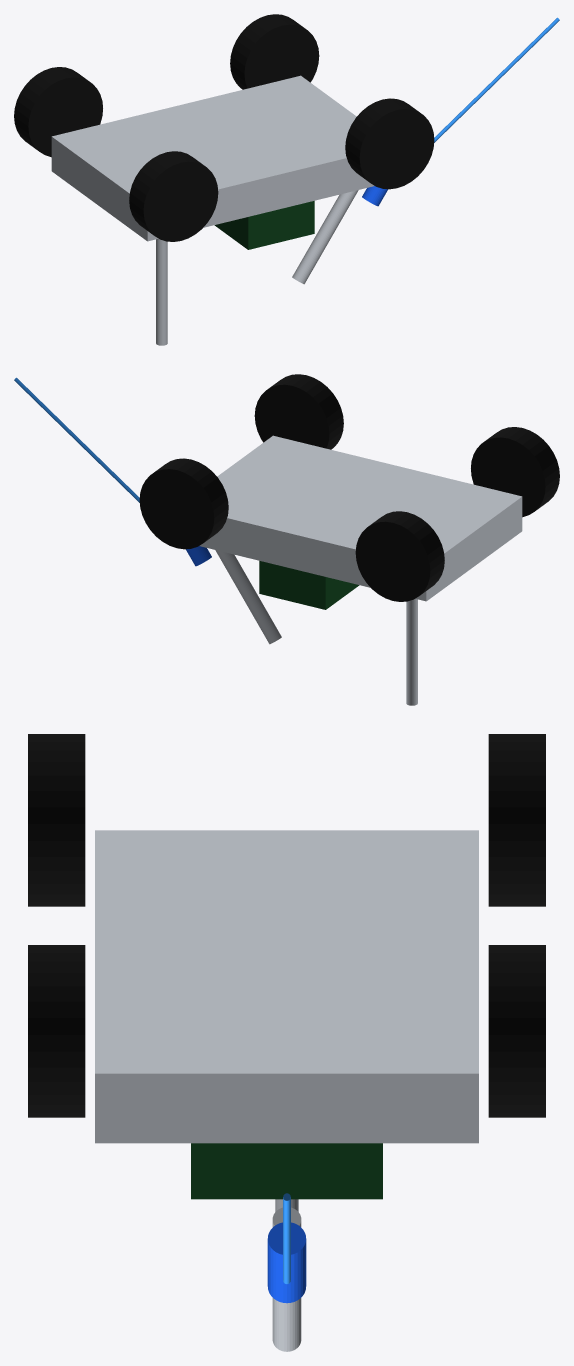
Rendered from rover.obj.
The picture shows the model from 3 angles, top to bottom: view 1: azimuth 30°, elevation 25°; view 2: azimuth 150°, elevation 25°; view 3: azimuth 270°, elevation 25°; orthographic projection. The views are drawn at different scales.
Visible parts, largest first — view 1: RoverChassis, Wheel.001, Wheel.003, Wheel, Wheel.002, ControlBox, LaserArm, CameraMast, LaserBeam; view 2: RoverChassis, Wheel, Wheel.002, Wheel.001, Wheel.003, ControlBox, LaserArm, CameraMast, LaserBeam; view 3: RoverChassis, ControlBox, Wheel, Wheel.001, Wheel.002, Wheel.003, LaserNozzle, LaserArm.
Part boxes in pixels (box(x1,y1,x2,y2)): RoverChassis: box(51, 75, 374, 241); Wheel.001: box(129, 151, 218, 241); Wheel.003: box(345, 98, 434, 189); Wheel: box(14, 67, 102, 157); Wheel.002: box(230, 14, 319, 89); ControlBox: box(214, 201, 314, 249); LaserArm: box(292, 190, 358, 284); CameraMast: box(156, 239, 167, 345); LaserBeam: box(434, 17, 559, 142); RoverChassis: box(199, 435, 522, 601); Wheel: box(355, 511, 444, 601); Wheel.002: box(139, 458, 228, 549); Wheel.001: box(471, 427, 559, 517); Wheel.003: box(254, 374, 343, 449); ControlBox: box(259, 561, 359, 609); LaserArm: box(215, 550, 281, 644); CameraMast: box(406, 599, 417, 705); LaserBeam: box(14, 377, 139, 502); RoverChassis: box(95, 830, 478, 1143); ControlBox: box(191, 1143, 382, 1199); Wheel: box(488, 734, 545, 906); Wheel.001: box(28, 734, 85, 906); Wheel.002: box(488, 945, 545, 1117); Wheel.003: box(28, 945, 85, 1117); LaserNozzle: box(267, 1222, 306, 1303); LaserArm: box(272, 1207, 301, 1351).
Bounding box in the file's own units: 1.16 × 0.55 × 0.54.
